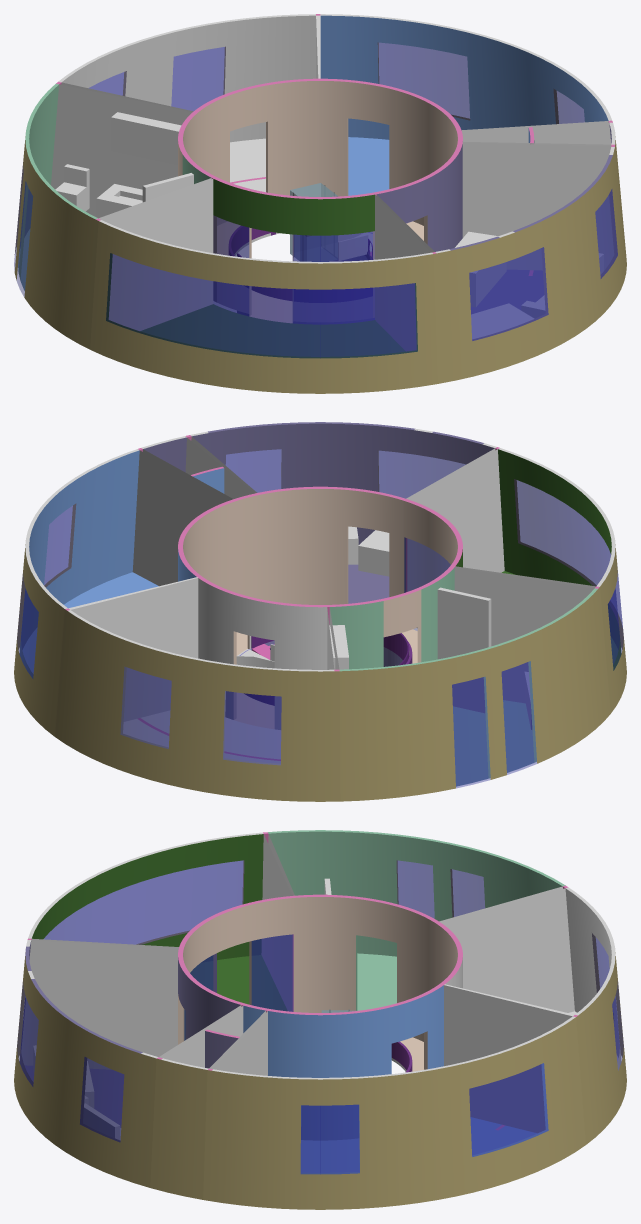
The model's file is golden.egg.placeholder.fbx.
3 renders of one model, top to bottom at view 1: azimuth 30°, elevation 25°; view 2: azimuth 150°, elevation 25°; view 3: azimuth 270°, elevation 25°, orthographic.
Parts seen in each view (by area): view 1: timry floor, Cube.007, elevator, Cube, Cube.001, Cube.006, Cube.003, Cube.004; view 2: timry floor, Cube.004, Cube, staircase.002, Cube.007; view 3: timry floor, Cube.002.
Boxes of the visible parts, bbox=[...] form: timry floor: bbox=[14, 14, 626, 393]; Cube.007: bbox=[111, 112, 181, 165]; elevator: bbox=[290, 183, 337, 261]; Cube: bbox=[471, 303, 533, 339]; Cube.001: bbox=[455, 231, 506, 306]; Cube.006: bbox=[55, 164, 89, 211]; Cube.003: bbox=[96, 184, 142, 218]; Cube.004: bbox=[142, 173, 193, 202]; timry floor: bbox=[14, 422, 626, 801]; Cube.004: bbox=[437, 587, 491, 712]; Cube: bbox=[358, 530, 389, 576]; staircase.002: bbox=[239, 633, 409, 666]; Cube.007: bbox=[329, 625, 348, 669]; timry floor: bbox=[14, 830, 626, 1209]; Cube.002: bbox=[83, 1096, 120, 1139].
Bounding box in the file's own units: 2400 × 802 × 2400.
